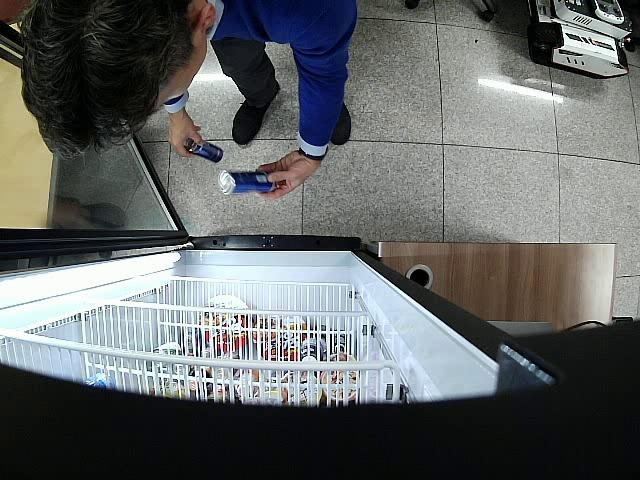00_hand: (255, 150, 323, 200), (168, 113, 203, 159)
16_hot6: (218, 167, 276, 197), (184, 136, 223, 163)
